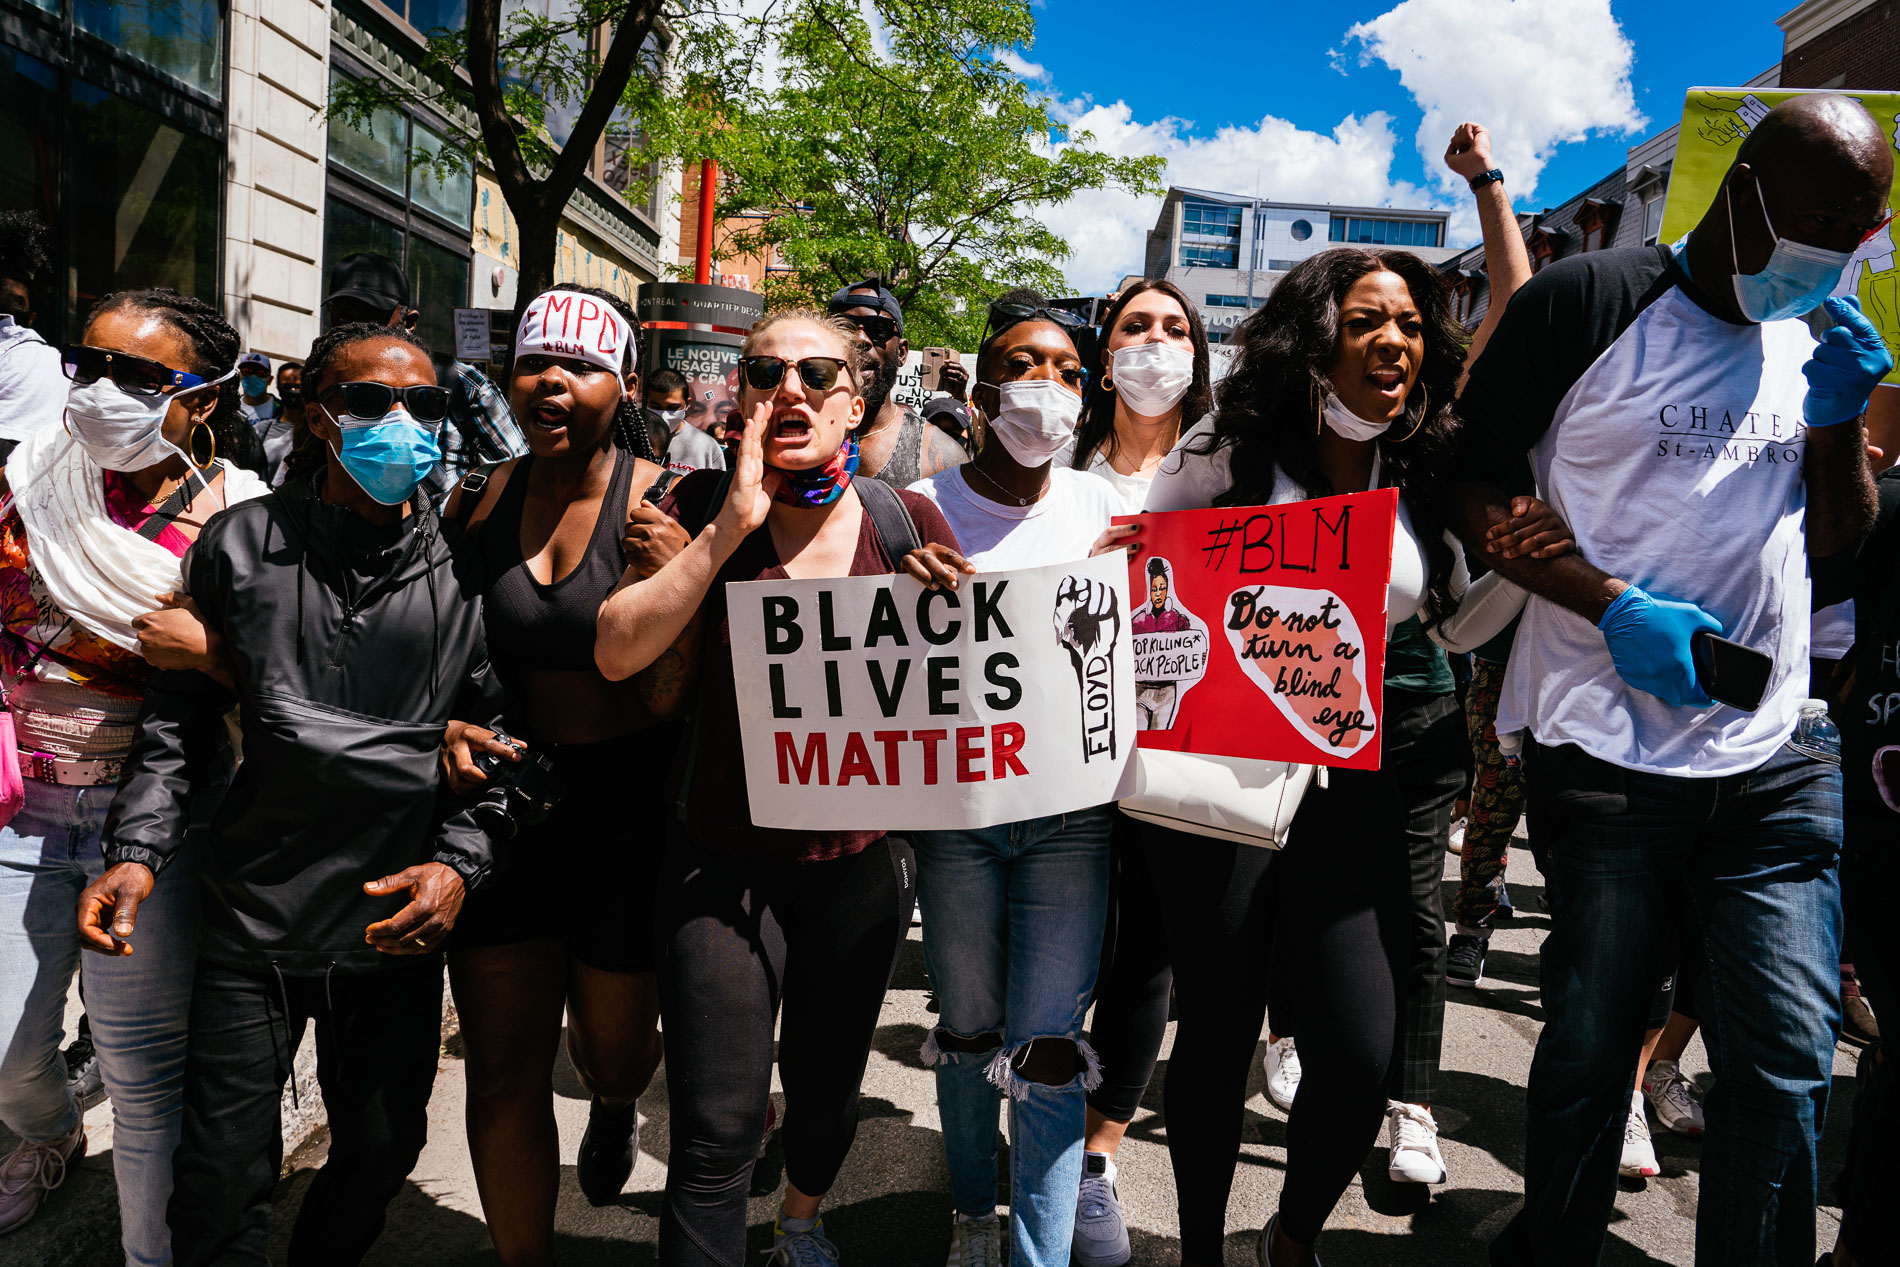with_incorrect_mask: (502, 284, 633, 467), (1310, 287, 1437, 443), (1108, 299, 1210, 417)
with_mask: (1721, 163, 1862, 329), (58, 306, 197, 472), (321, 350, 451, 508), (976, 325, 1092, 464)
without_mask: (734, 313, 860, 474)
